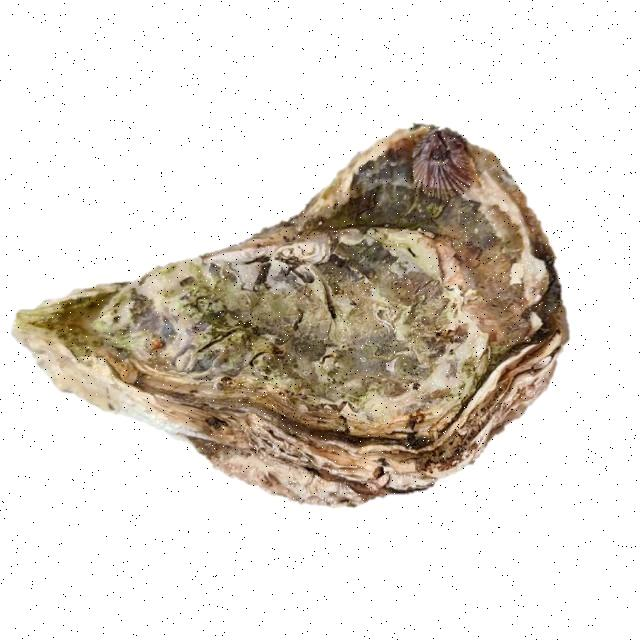Oyster-Closed: (12, 125, 570, 508)
